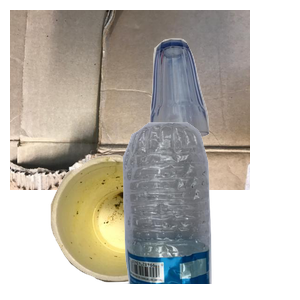cardboard: (10, 10, 250, 190)
glass: (147, 36, 300, 168)
plastic: (111, 120, 300, 300)
trash: (48, 152, 219, 300)
